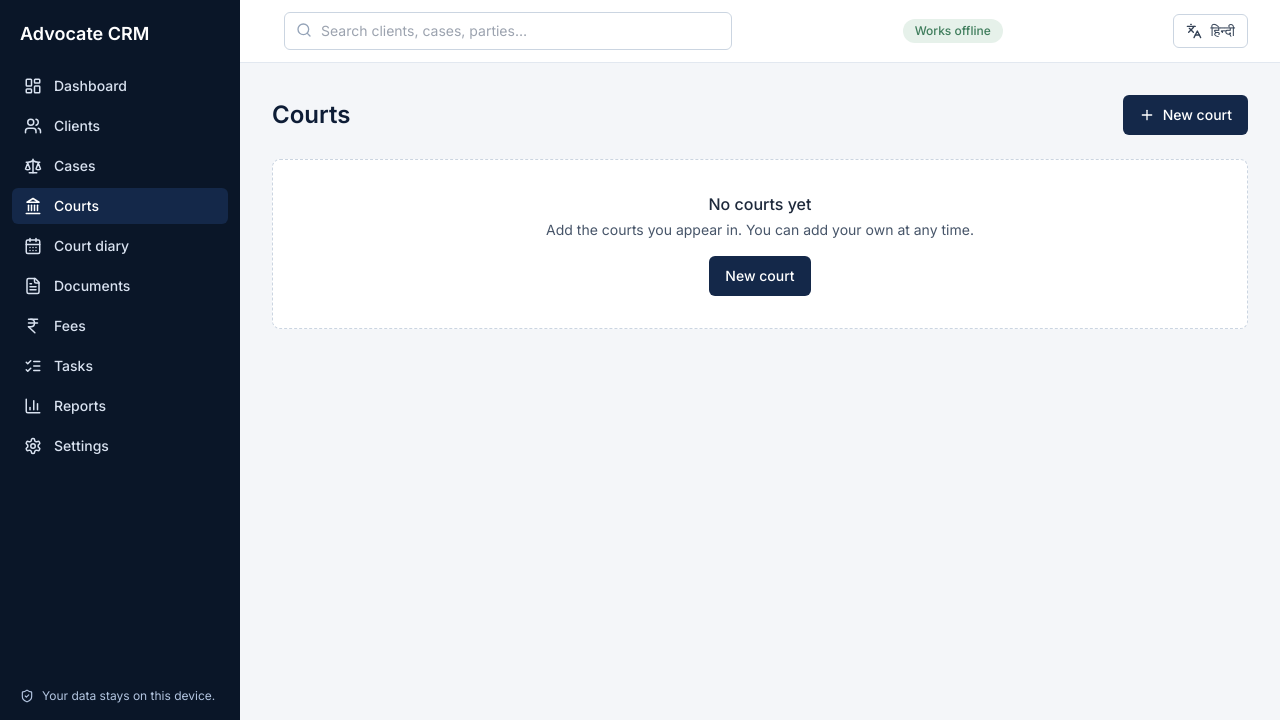
Test: case management › adds a custom court and refuses to remove one that a case uses
Click the 1st button "New court" at (1185, 115), box x1=1123 y1=95 x2=1248 y2=135
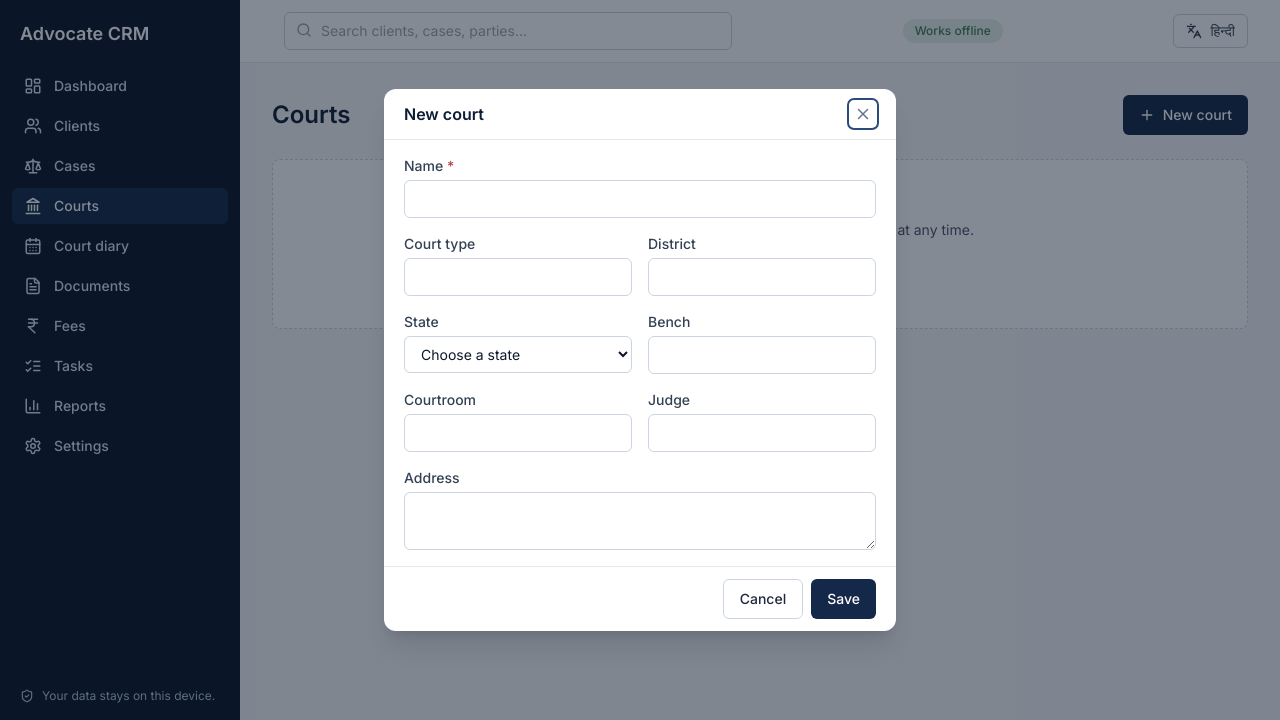
Type "Family Court Bhopal" into the field labelled "Name *" at (640, 199), box x1=404 y1=180 x2=876 y2=218
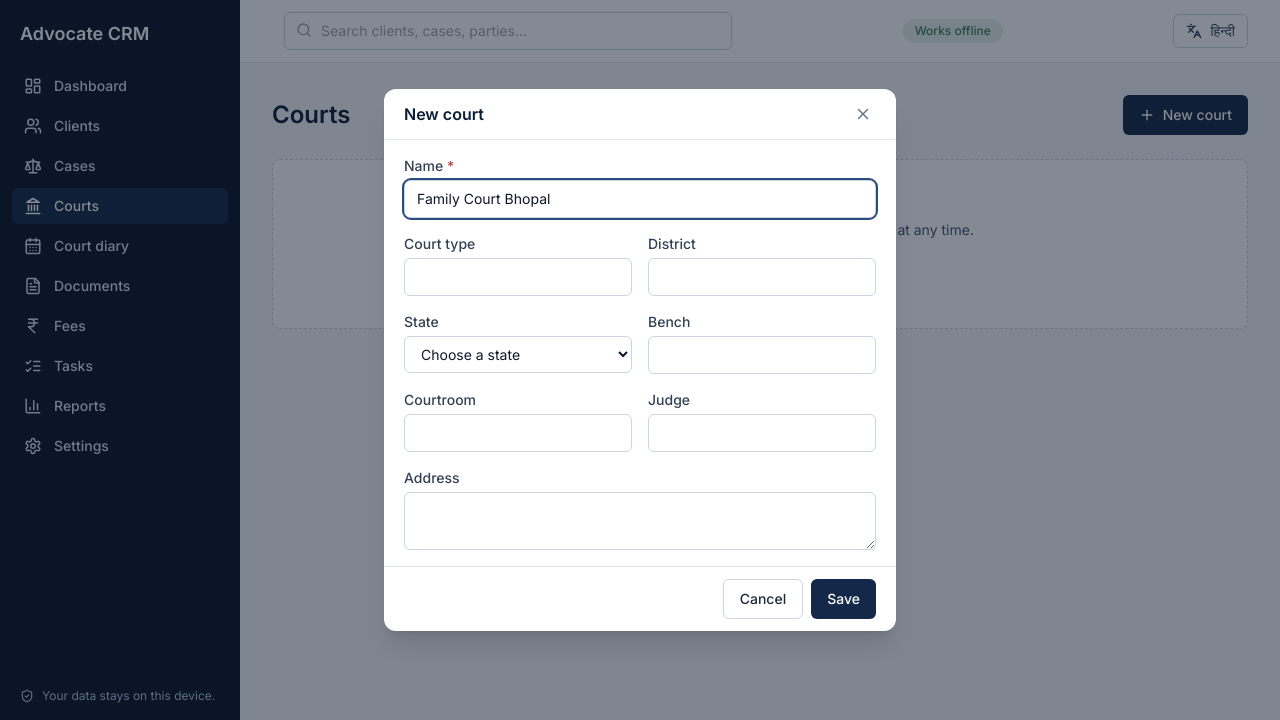
Click the button "Save" at (844, 599), box x1=811 y1=579 x2=876 y2=619
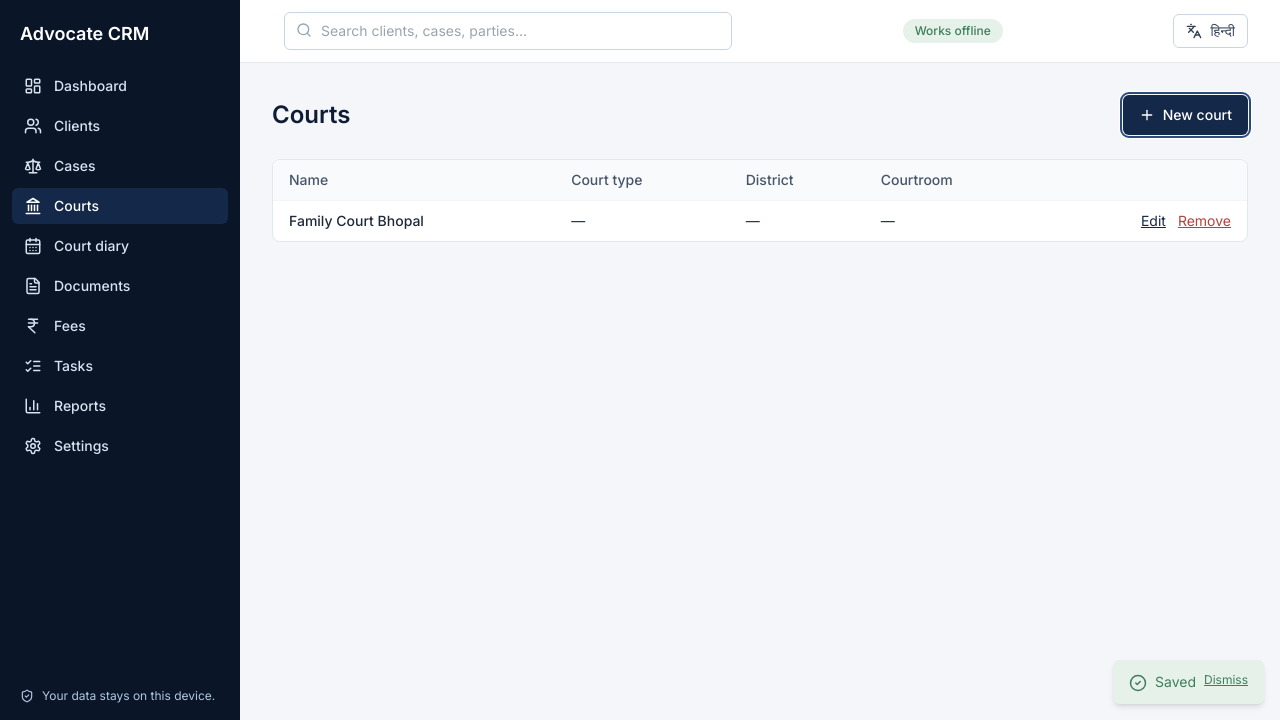
Check: the text "Family Court Bhopal" is shown, box x1=289 y1=212 x2=424 y2=229
Click the button with aria-label "Remove Family Court Bhopal" at (1204, 221), box x1=1178 y1=211 x2=1231 y2=231
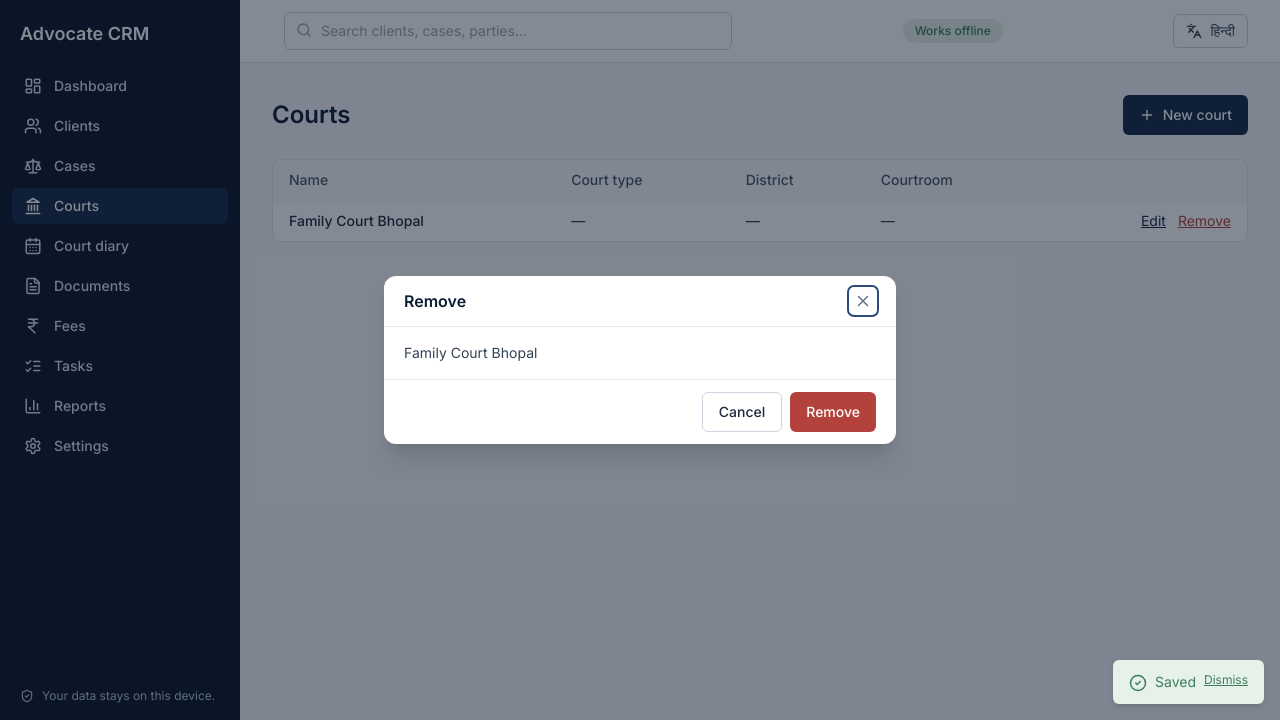
Click the button "Remove" at (833, 412), box x1=790 y1=392 x2=876 y2=432
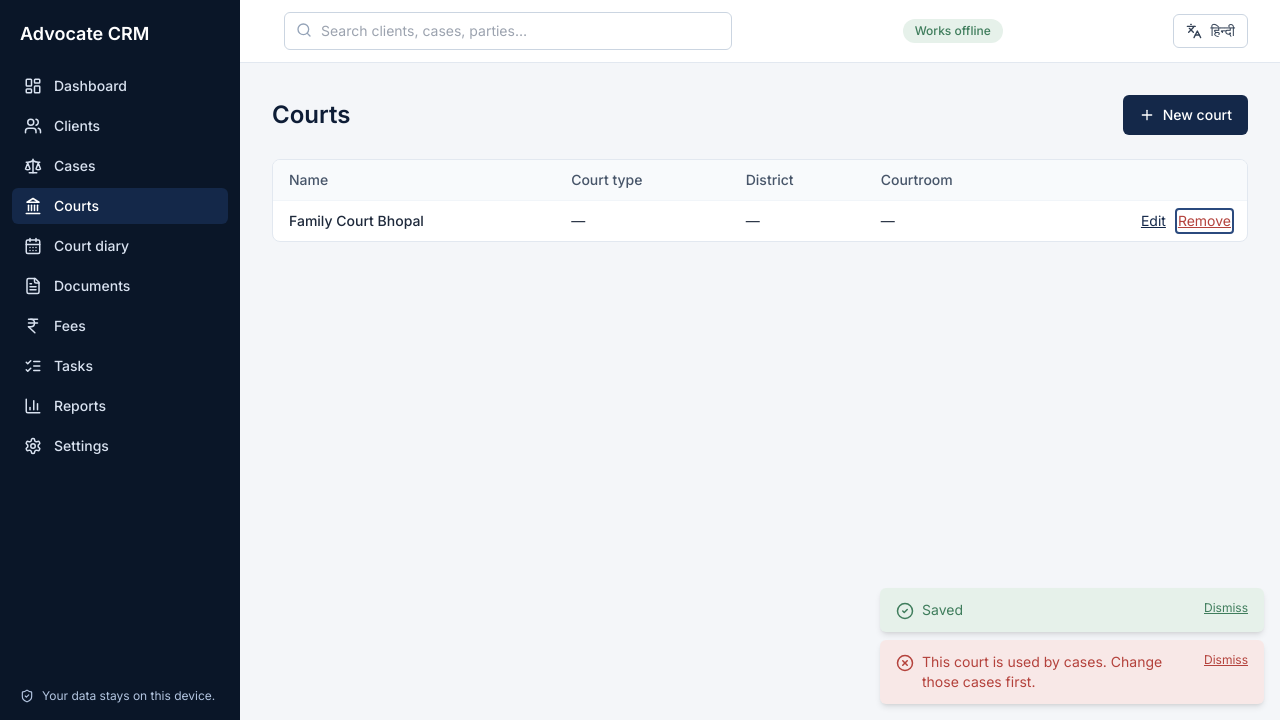
Check: the text "This court is used by cases. Change those cases first." is shown, box x1=922 y1=652 x2=1196 y2=692
